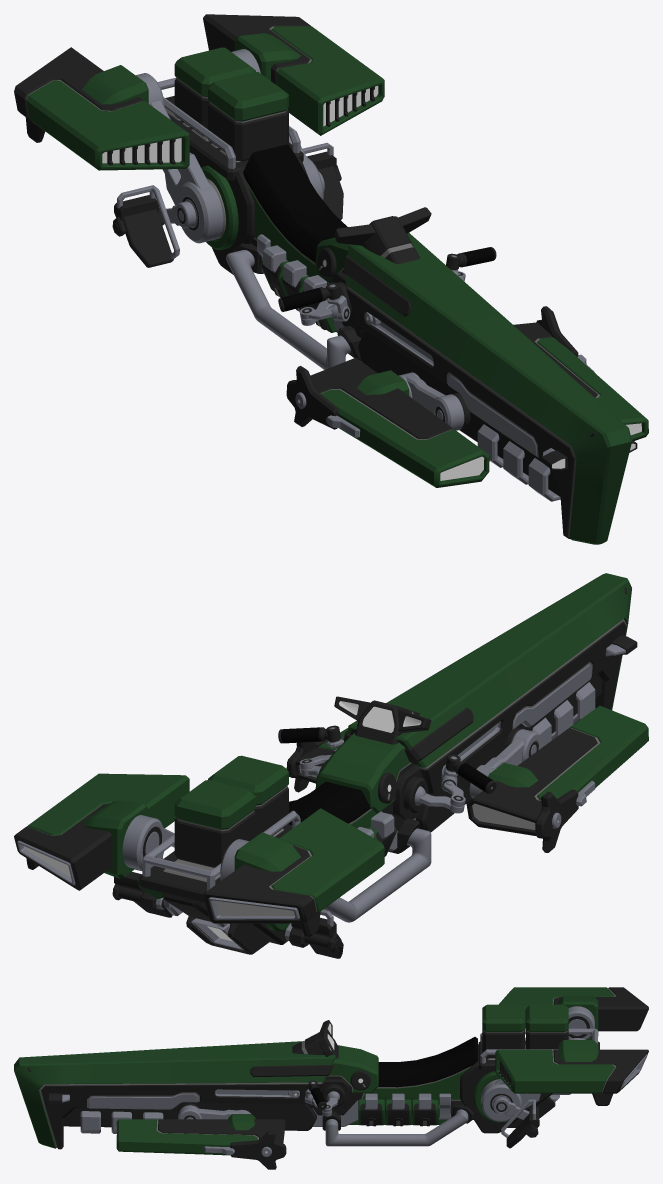
File: Raptor Zero.fbx
The picture shows the model from 3 angles, top to bottom: view 1: azimuth 30°, elevation 25°; view 2: azimuth 150°, elevation 25°; view 3: azimuth 270°, elevation 25°; orthographic projection. The views are drawn at different scales.
Parts seen in each view (by area): view 1: Cube; view 2: Cube; view 3: Cube.
Part boxes in pixels (x1,y1,x2,y2): Cube: (14,14,648,544); Cube: (14,573,648,958); Cube: (14,987,648,1169).
Bounding box in the file's own units: 152 × 100 × 438.
